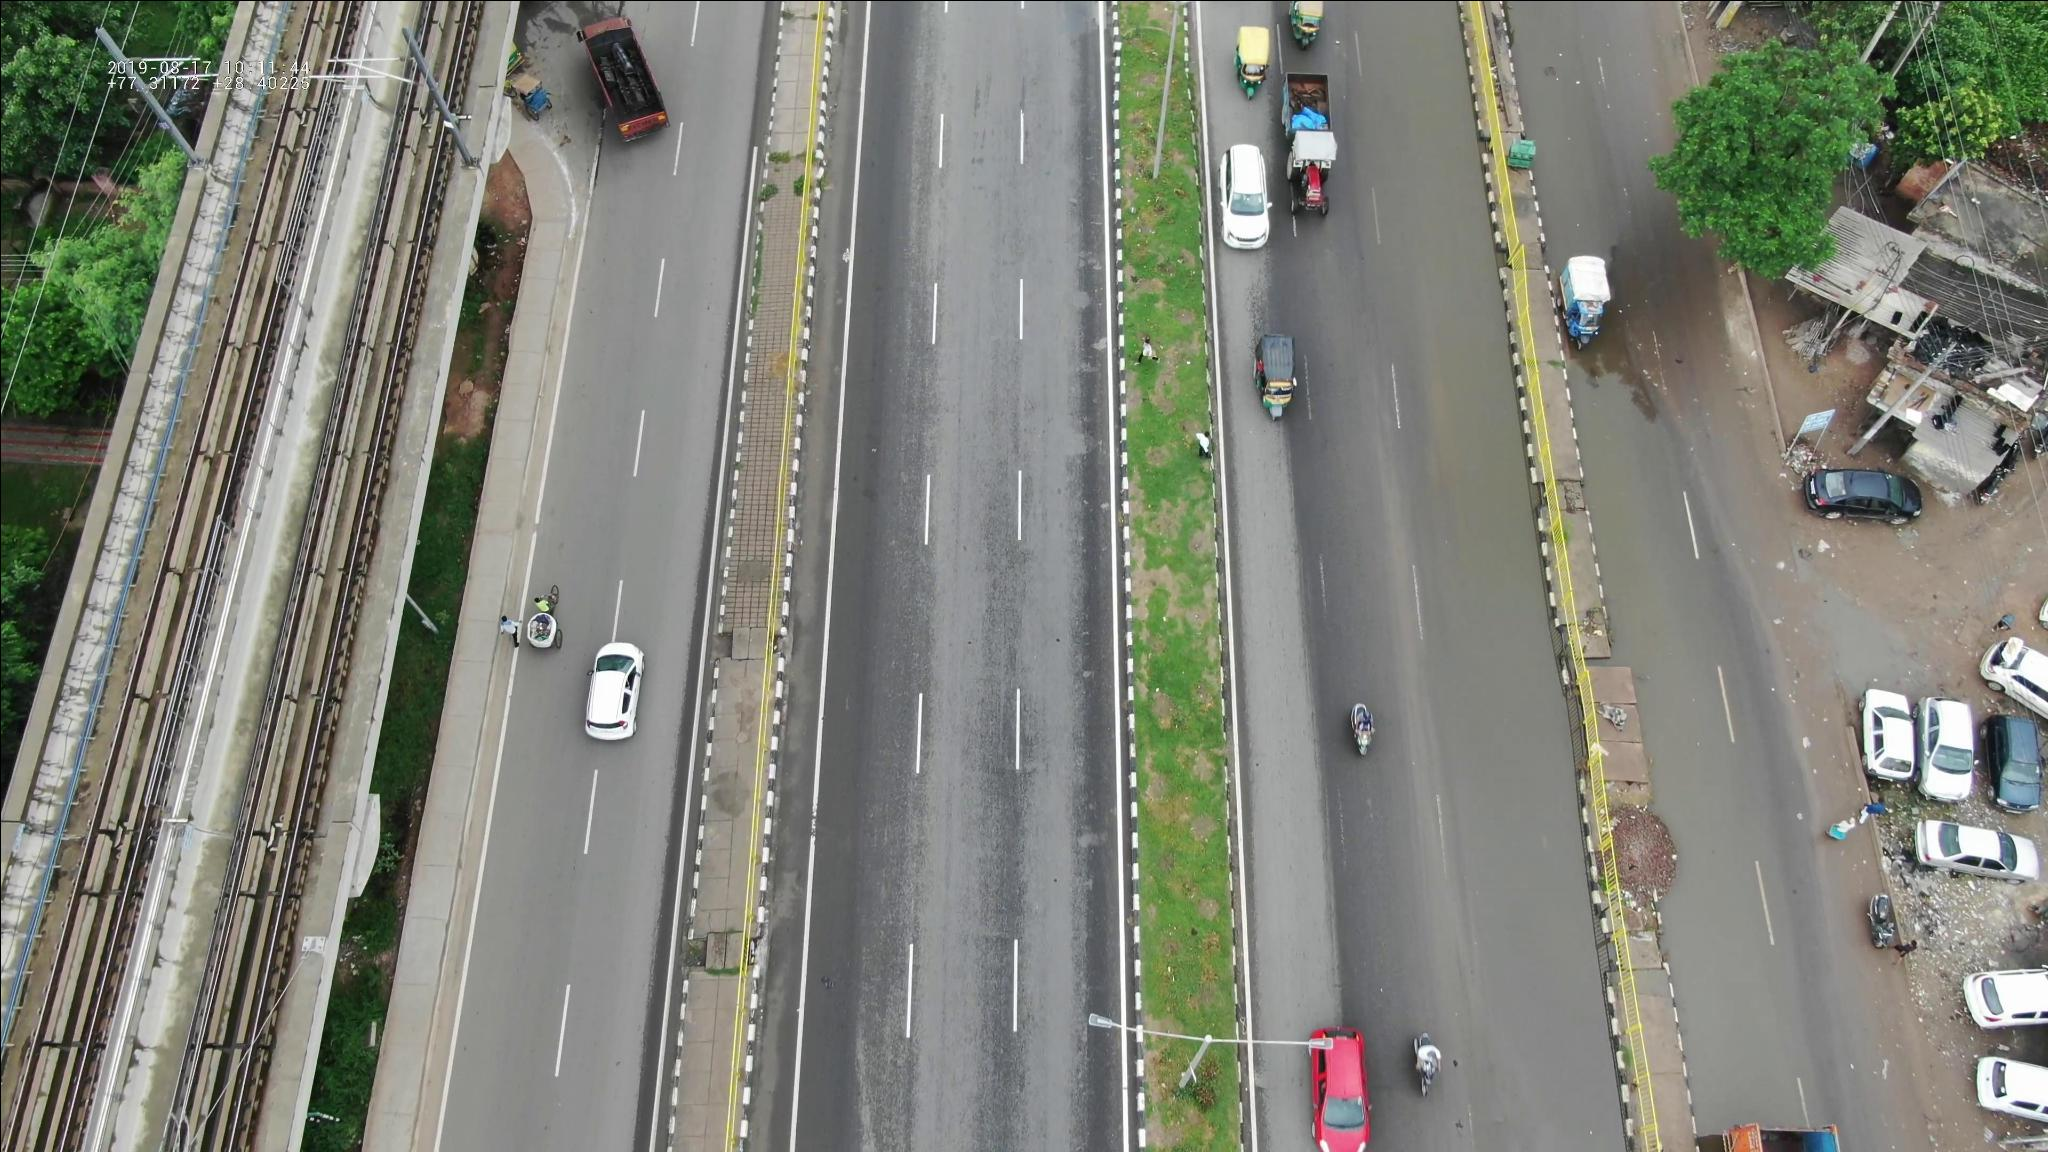Waterlogging: (1568, 354, 1793, 930), (1356, 134, 1513, 454), (1428, 478, 1582, 792)
